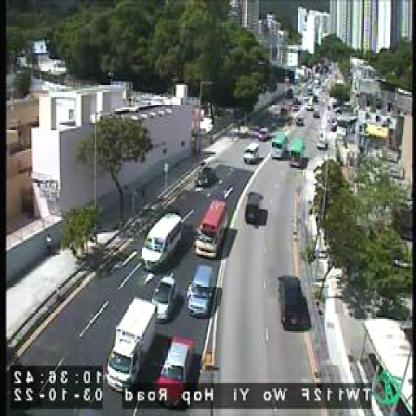Car: (155, 333, 196, 404), (139, 209, 185, 268), (279, 272, 307, 331), (190, 262, 217, 315), (151, 274, 179, 317), (245, 190, 266, 224), (195, 165, 217, 184), (242, 140, 260, 162)
Minibus: (194, 200, 228, 258), (269, 132, 290, 161), (287, 137, 307, 166)
Truck: (104, 296, 160, 383)
